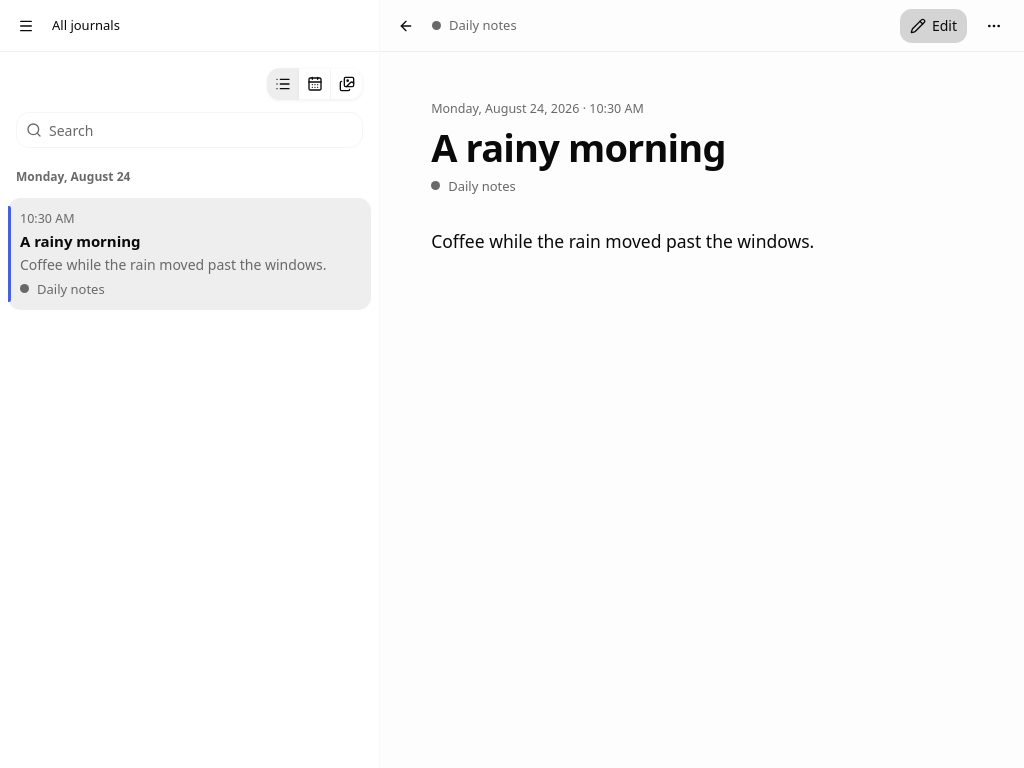
Phase B routes › keeps the confirmation open and shows a human error when deletion fails
The width and height of the screenshot is (1024, 768).
Click the button named "Entry actions": (994,26) 976,8 -> 1012,44
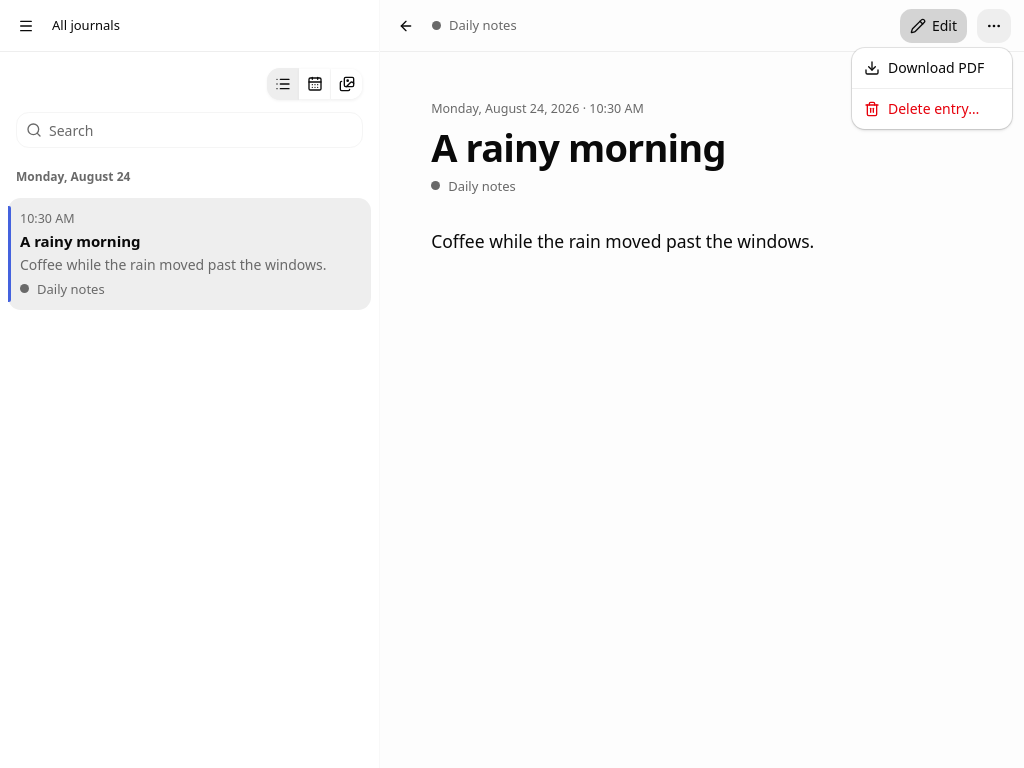
Click the menu item "Delete entry…": (922,108) 864,99 -> 979,118
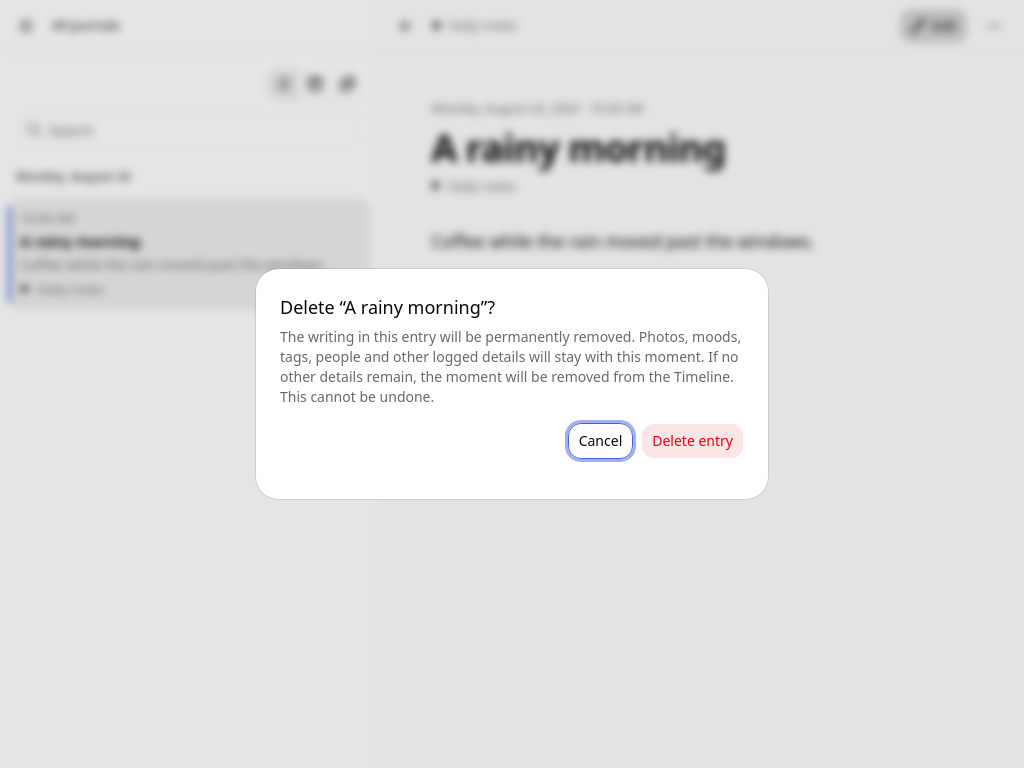
Click the button "Delete entry": (693,441) 641,423 -> 744,459
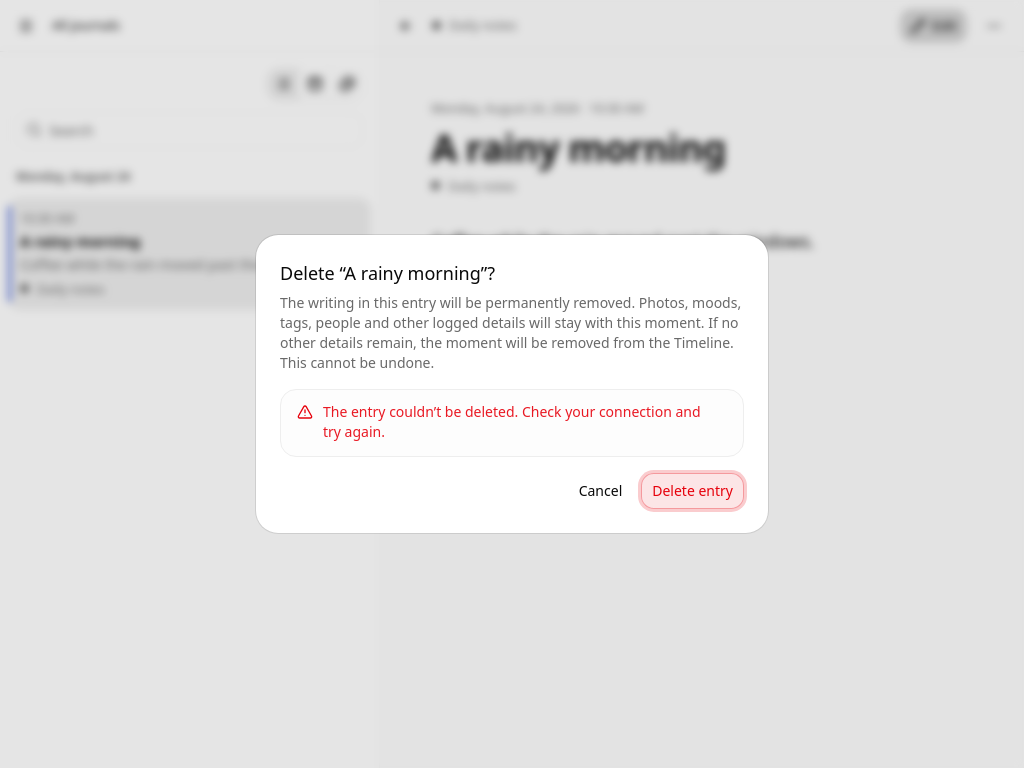
Now the dialog is shown, box 256,235 -> 768,533
Now the text "The entry couldn’t be deleted. Check your connection and try again." is shown, box 323,402 -> 727,442
